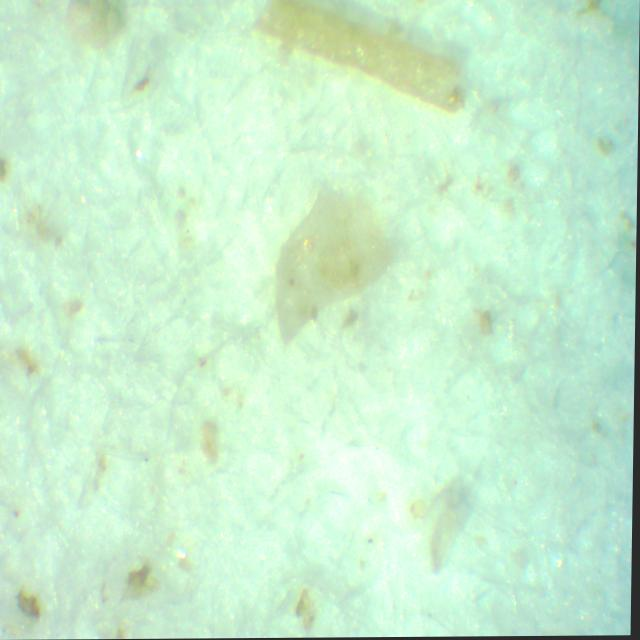microplastic: (273, 186, 399, 349)
